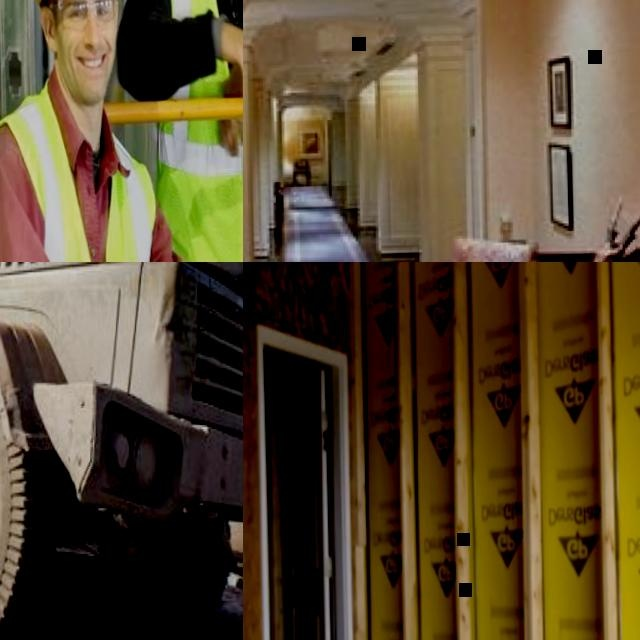NO-Mask: (61, 42, 113, 103)
Person: (0, 0, 243, 262), (107, 0, 243, 262)
Safety Vest: (0, 89, 153, 262), (146, 0, 243, 262)
machinery: (0, 262, 243, 640)
